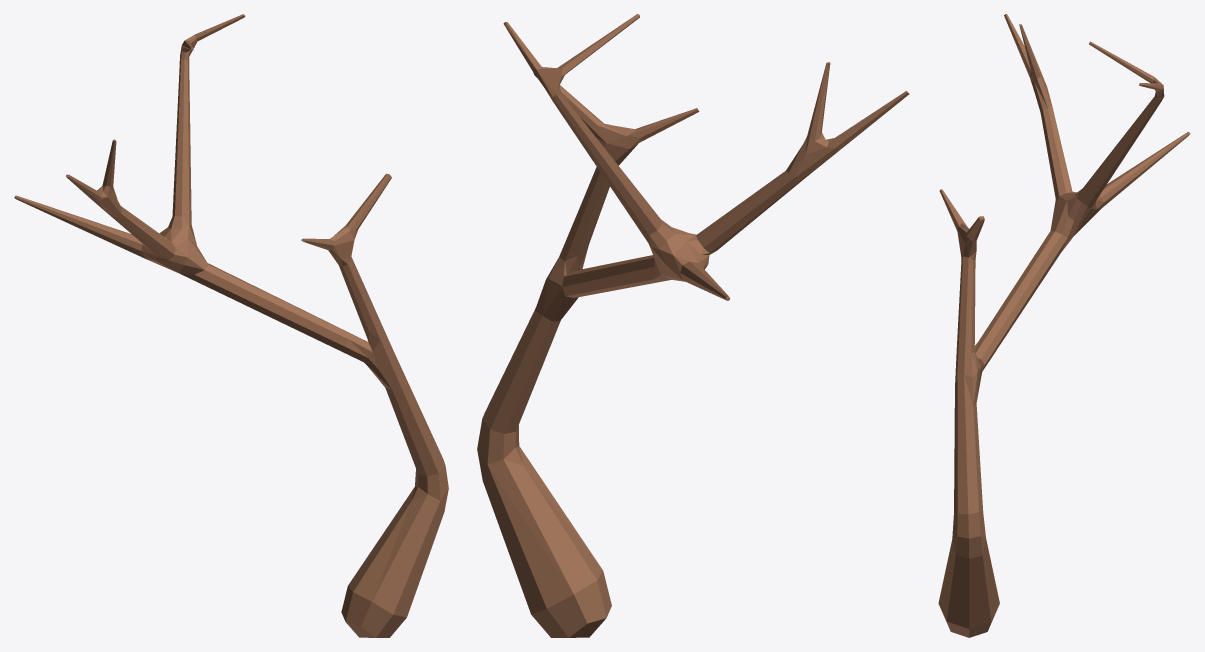
Rendered from tree8.fbx.
3 views of the same model, side by side, from view 1: azimuth 30°, elevation 25°; view 2: azimuth 150°, elevation 25°; view 3: azimuth 270°, elevation 25° (orthographic). The views are drawn at different scales.
Visible parts, largest first — view 1: Plane.015; view 2: Plane.015; view 3: Plane.015.
Boxes of the visible parts, bbox=[...] form: Plane.015: bbox=[14, 14, 448, 637]; Plane.015: bbox=[477, 14, 909, 637]; Plane.015: bbox=[938, 14, 1190, 637].
Size of the model in its own units: 369 by 558 by 237.
1 material, 1 textured.
